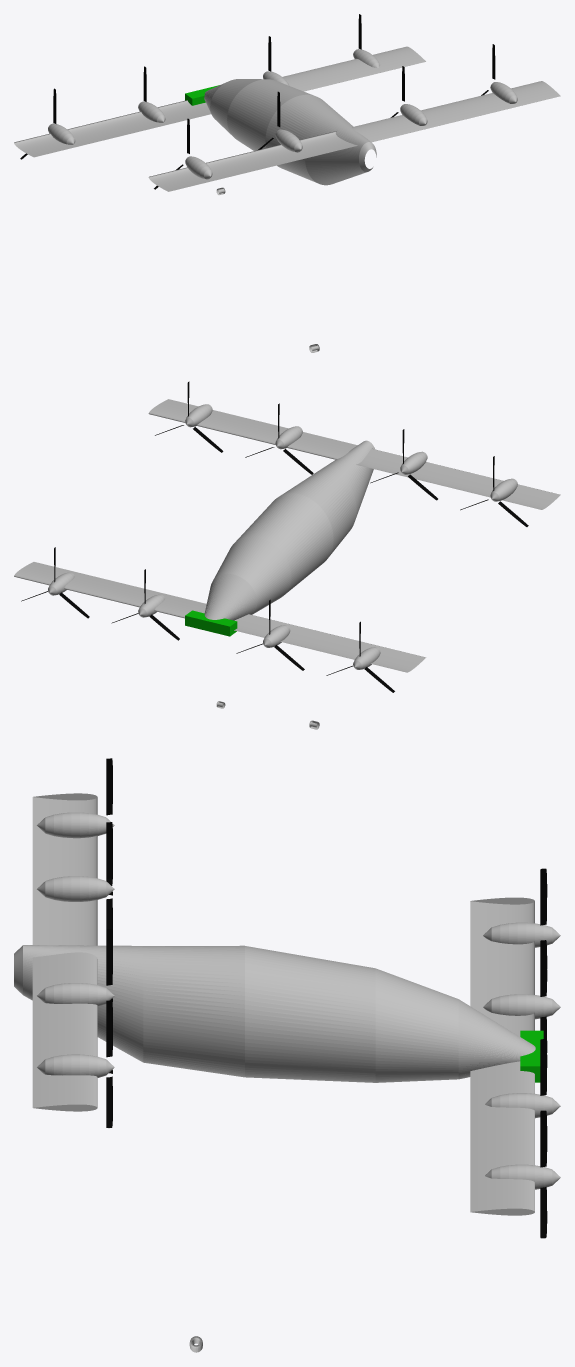
The model's file is Vahana.gltf.
3 views of the same model, one above another, from view 1: azimuth 30°, elevation 25°; view 2: azimuth 150°, elevation 25°; view 3: azimuth 270°, elevation 25° (orthographic). The views are drawn at different scales.
Visible parts, largest first — view 1: Renderer Node; view 2: Renderer Node; view 3: Renderer Node.
Boxes of the visible parts, left/top/right/bottom form: Renderer Node: left=14, top=14, right=560, bottom=352; Renderer Node: left=14, top=381, right=560, bottom=729; Renderer Node: left=14, top=758, right=560, bottom=1352.
Bounding box in the file's own units: 8.48 × 6.08 × 6.3.
